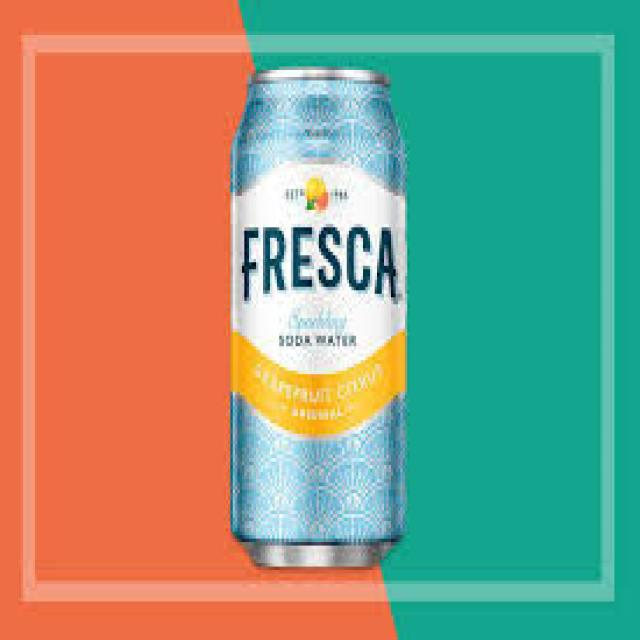Cans: (221, 49, 421, 581)
